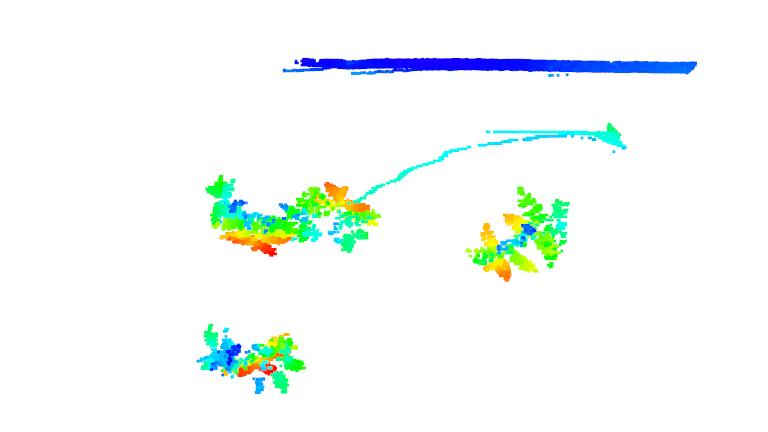chickpea: (463, 183, 574, 284), (299, 176, 383, 253), (237, 202, 311, 262), (198, 170, 255, 247), (247, 327, 307, 394), (191, 317, 247, 384)
